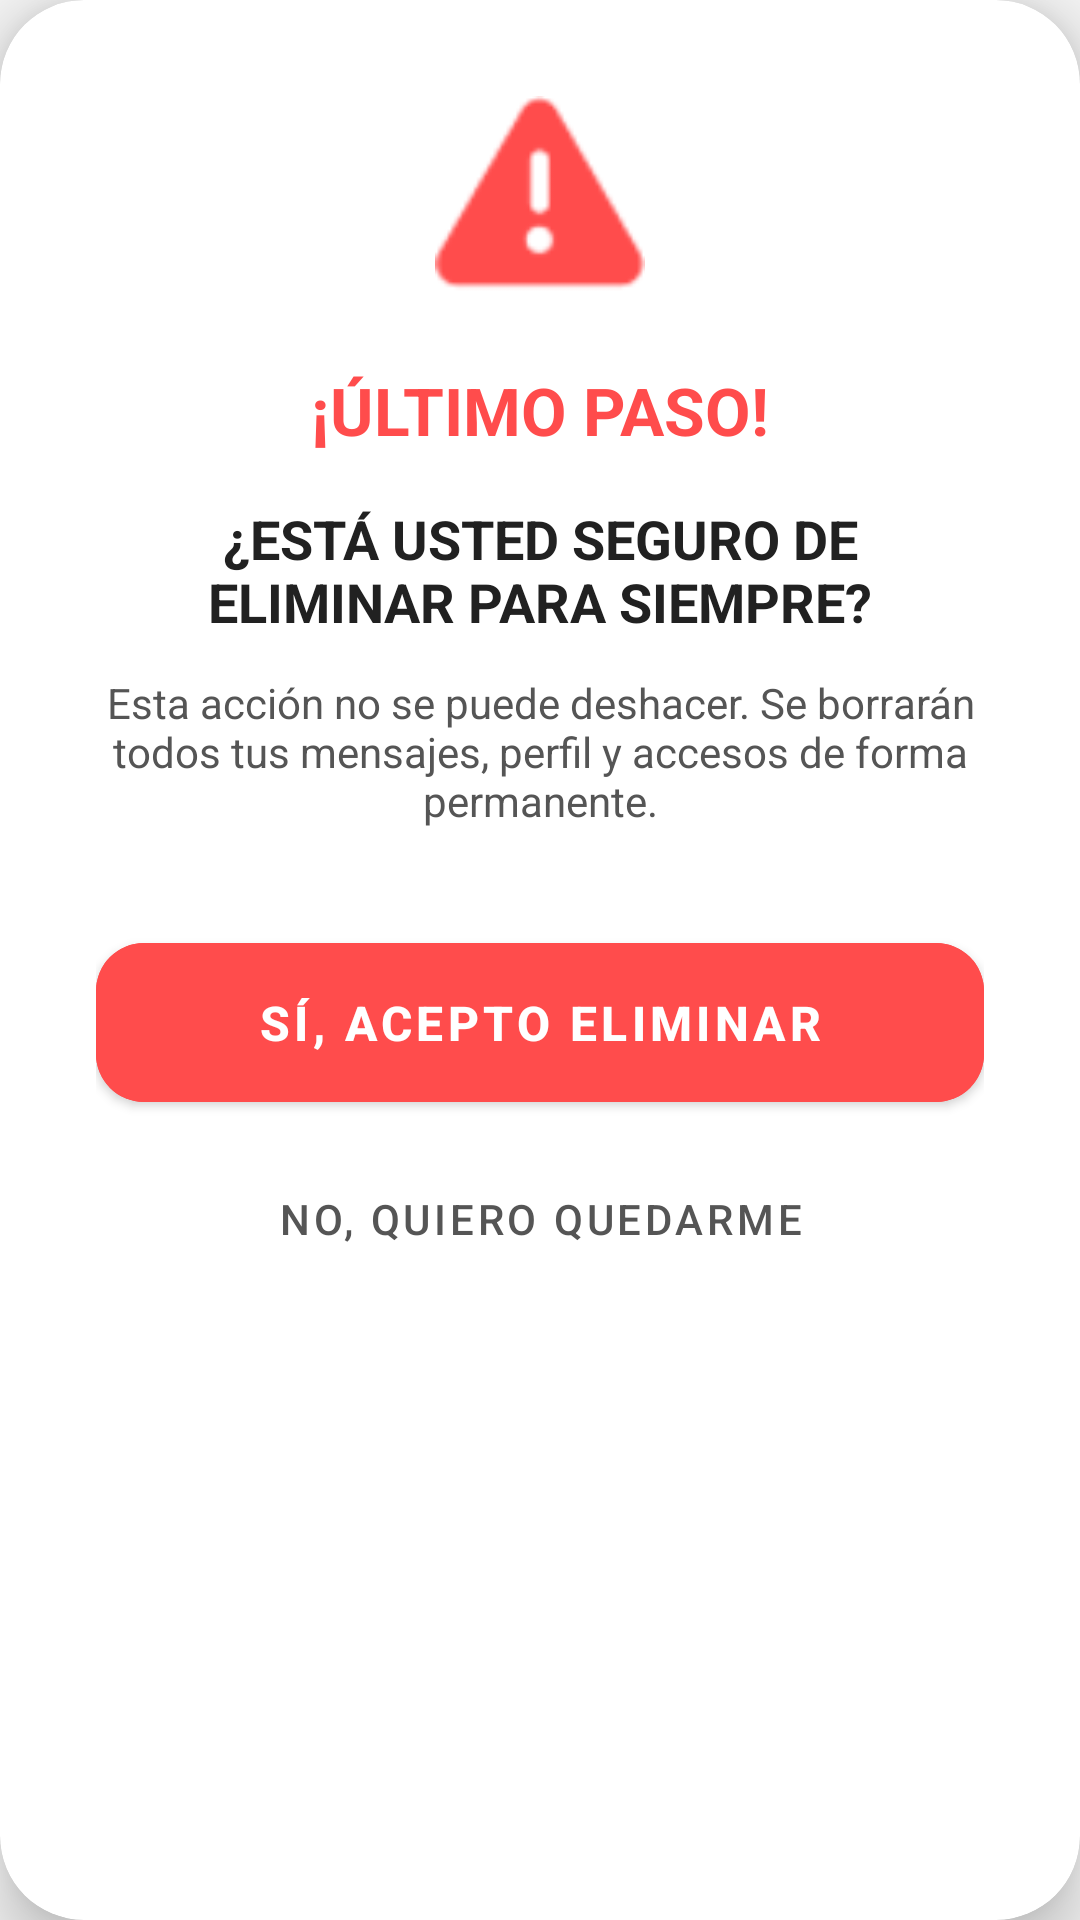

Icon click points for this 1080x1920 phone screenshot, format point (x, y):
alert: point (540, 191)
